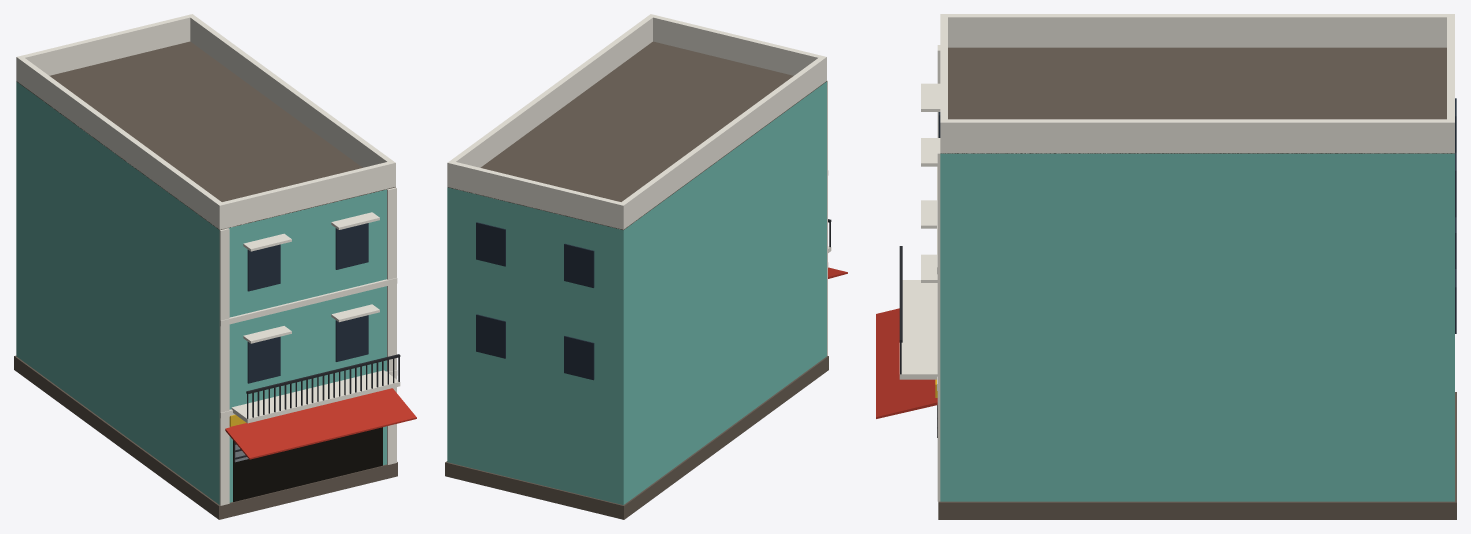
File: bld_ot_shop_02.glb
3 renders of one model, left to right at view 1: azimuth 30°, elevation 25°; view 2: azimuth 150°, elevation 25°; view 3: azimuth 270°, elevation 25°, orthographic. The views are drawn at different scales.
Visible parts, largest first — view 1: bld_ot_shop_02; view 2: bld_ot_shop_02; view 3: bld_ot_shop_02.
Part boxes in pixels (left/top/right/bottom): bld_ot_shop_02: left=14, top=14, right=416, bottom=519; bld_ot_shop_02: left=445, top=14, right=847, bottom=519; bld_ot_shop_02: left=876, top=14, right=1456, bottom=519.
Size of what is drawn, in the model's own units: 6.1 by 10.2 by 13.55.
